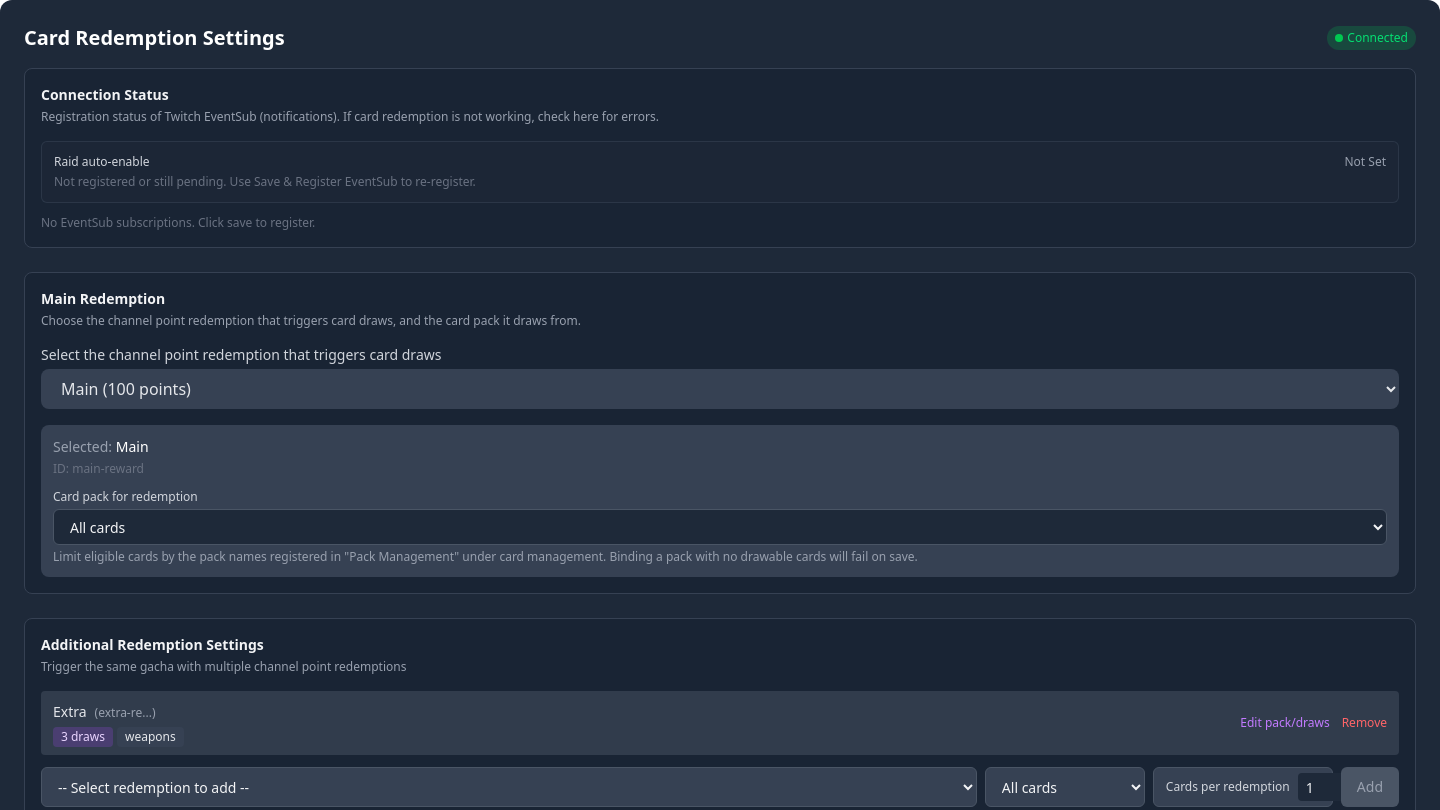
Test: ChannelPointSettings additional-reward editing › localizes concurrent update conflicts, closes the stale editor, and refetches
This screenshot has width=1440, height=810.
What coordinates should you click on to do the following:
click the button with aria-label "Edit pack/draws for Extra"
I would click on:
 (1285, 723)
Its box is 1240,715 -> 1330,731.
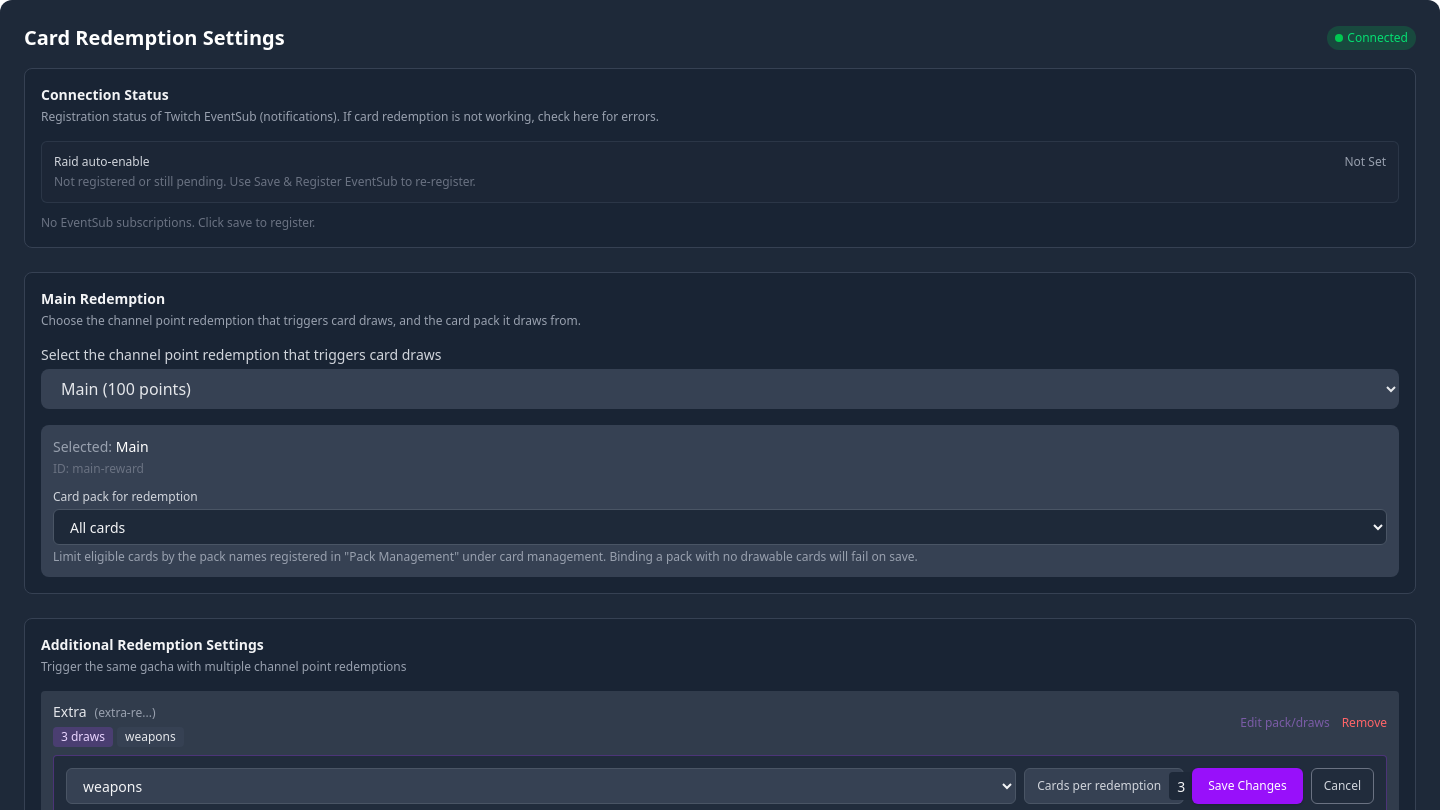
What coordinates should you click on to do the following:
click the button "Save Changes"
I would click on:
 (1248, 786)
Its box is 1192,768 -> 1303,804.
(page scrolled)
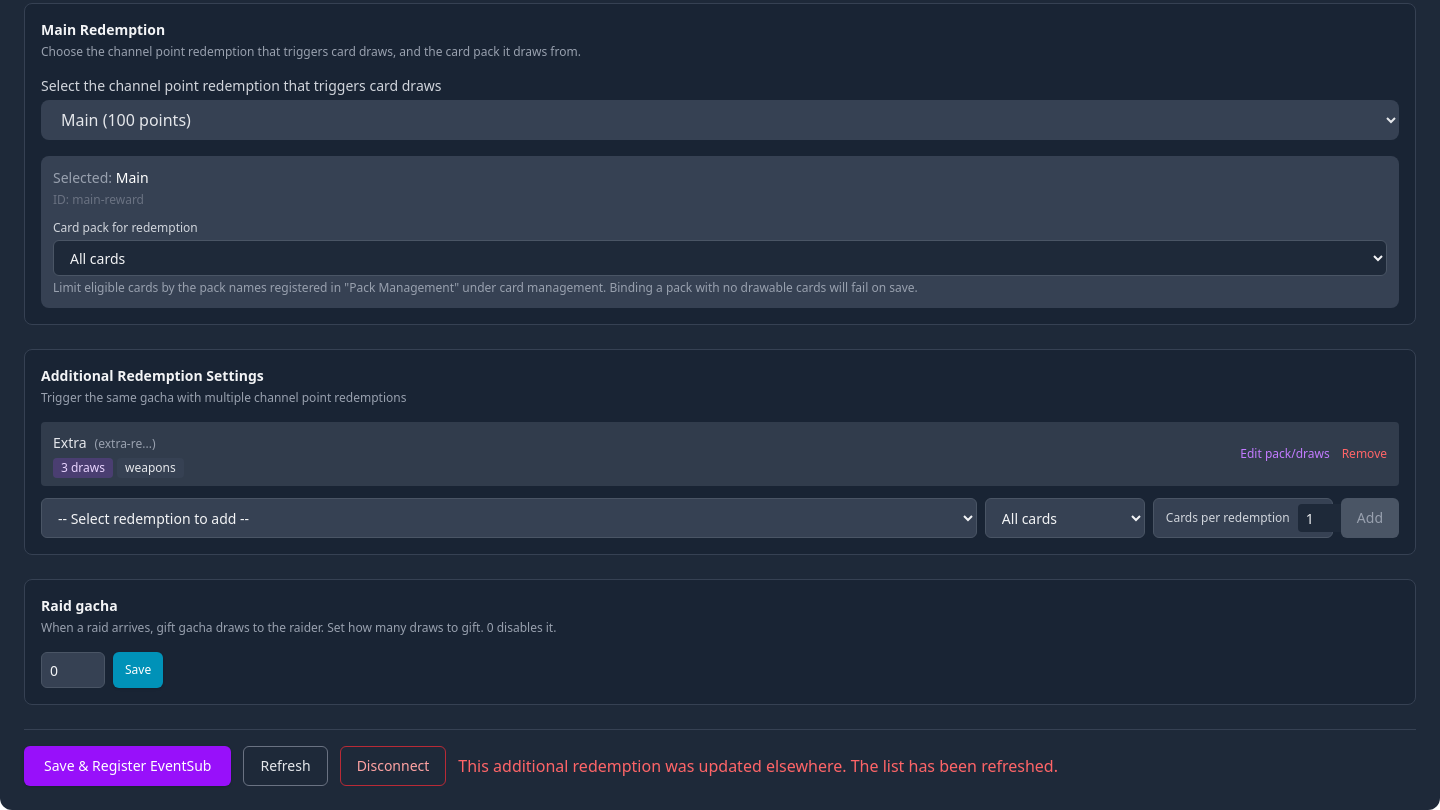
Expected: the text "This additional redemption was updated elsewhere. The list has been refreshed." is shown, 458,754 -> 1058,778
Expected: the button "Cancel" is gone
